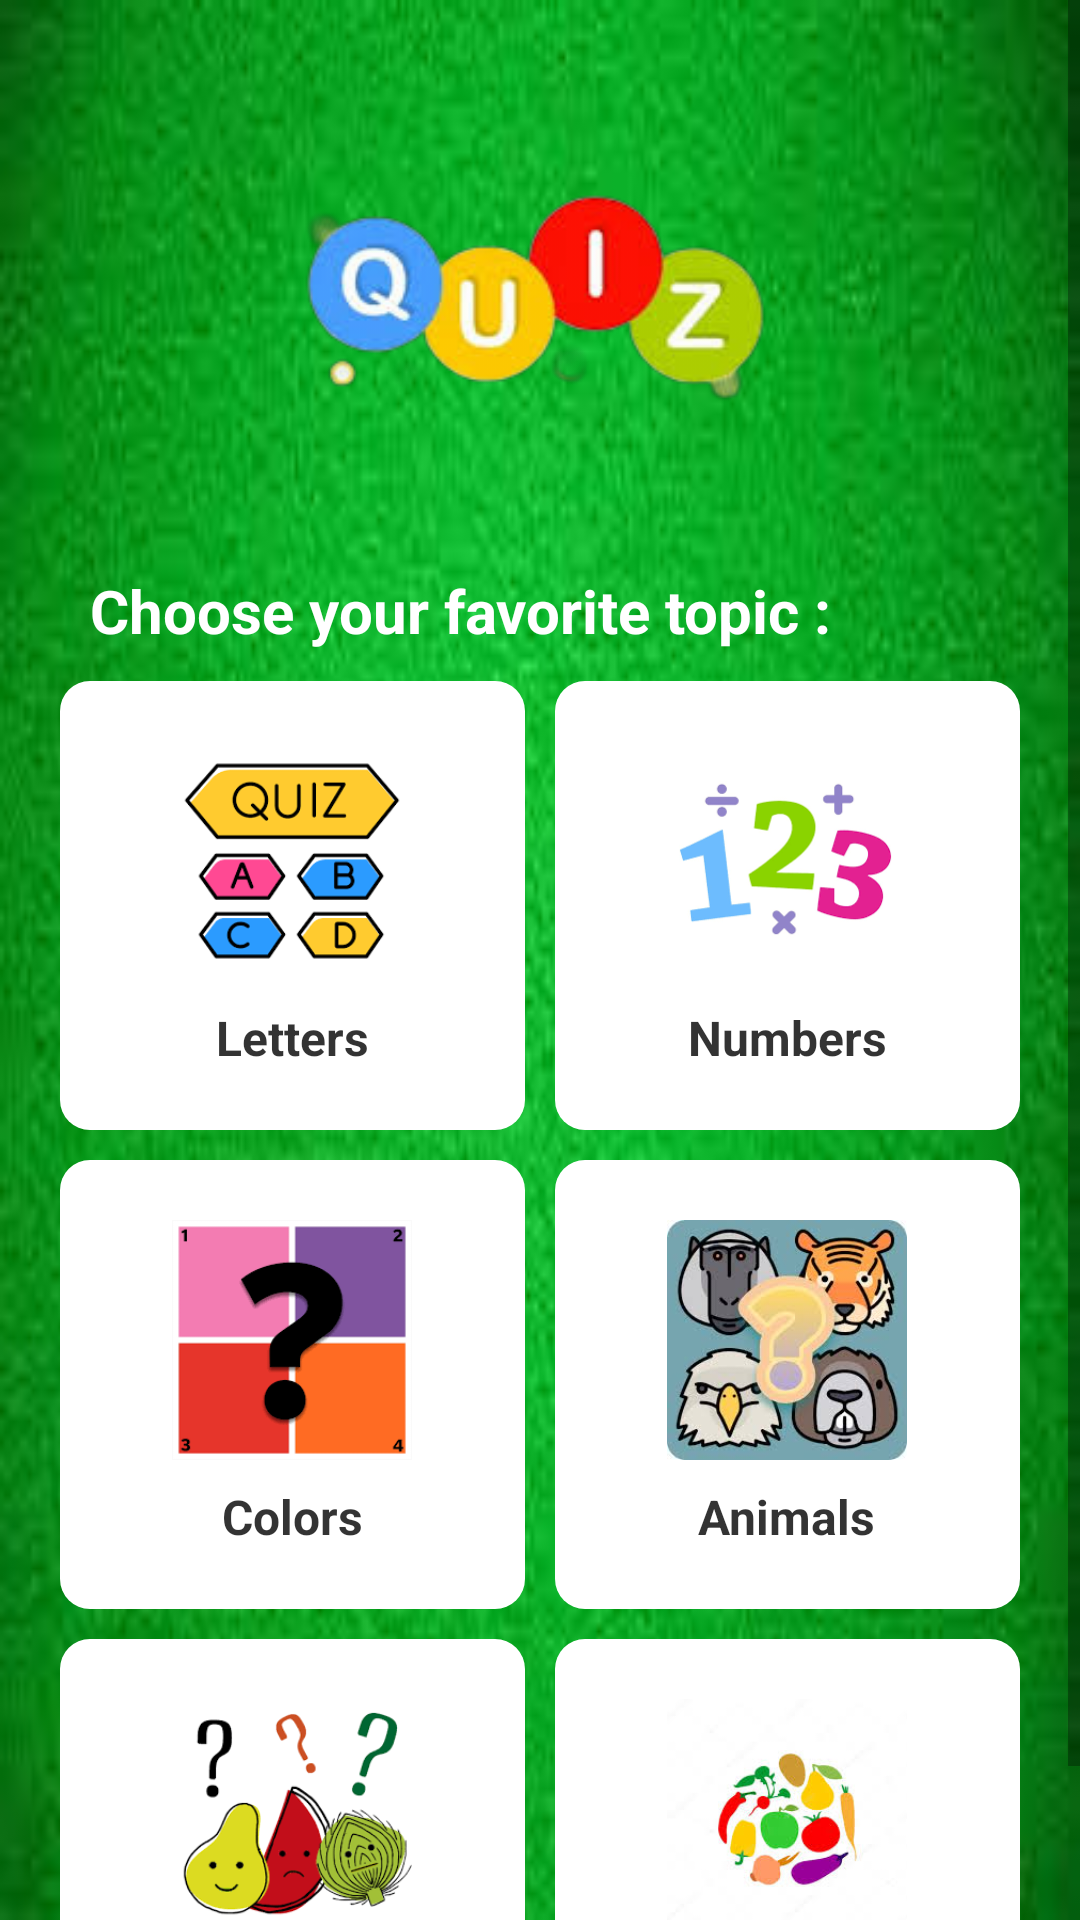

Named icons in this screenshot (1080 x 1920) and their bounding boxes, [x1,y1,x2,y2]:
fruits one: [183,1712,412,1915]
vegetables one: [718,1753,857,1885]
